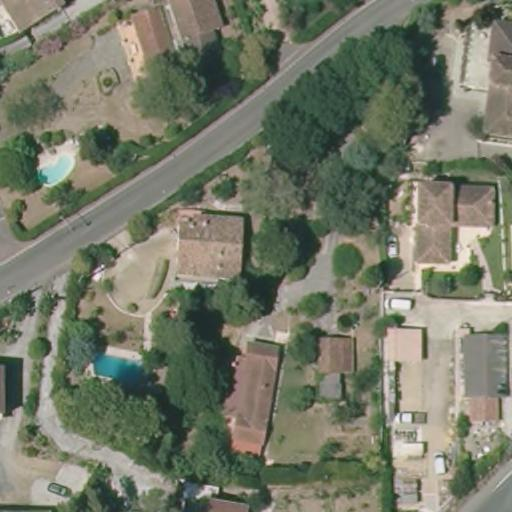pool: (83, 345, 153, 389), (30, 150, 76, 189)
